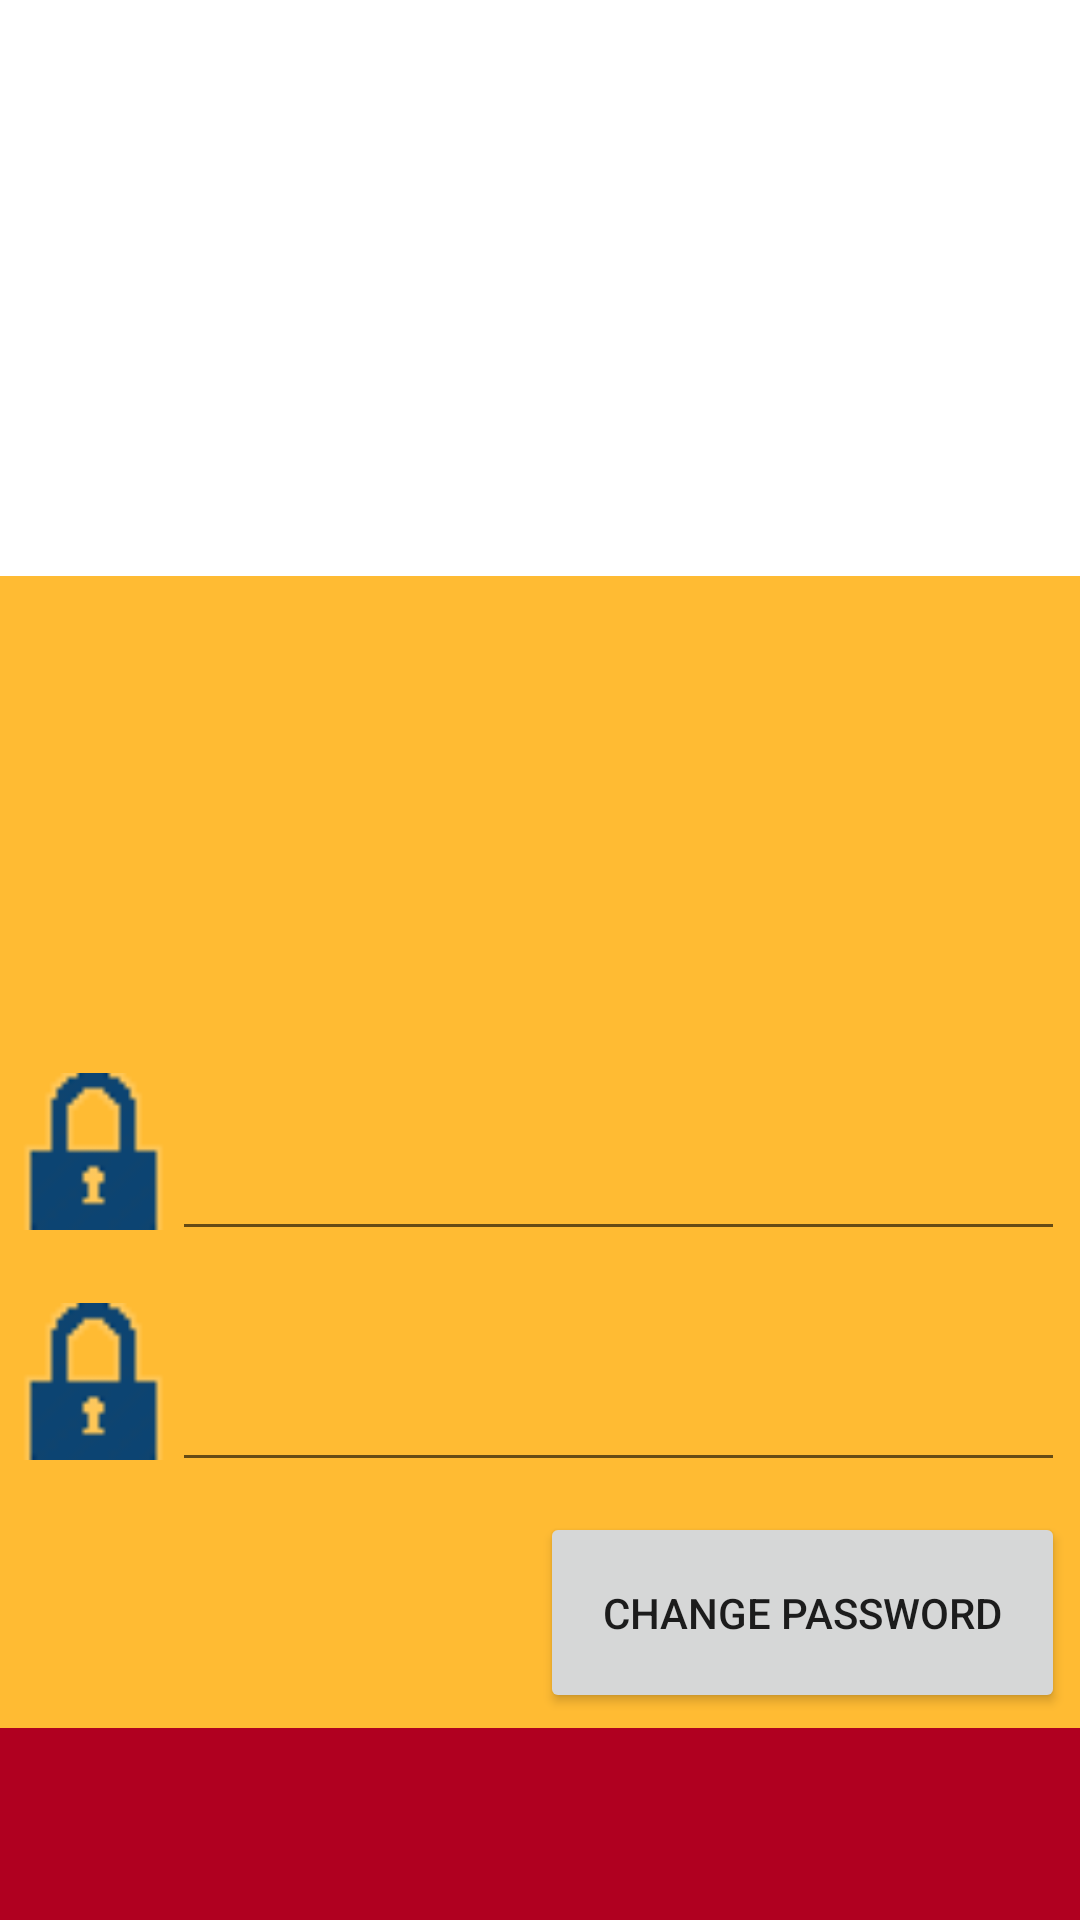

Icons on this 1080*1920 Android screen, each with the point to tap as point (x, y):
lock: point (93, 1151), point (93, 1381)
